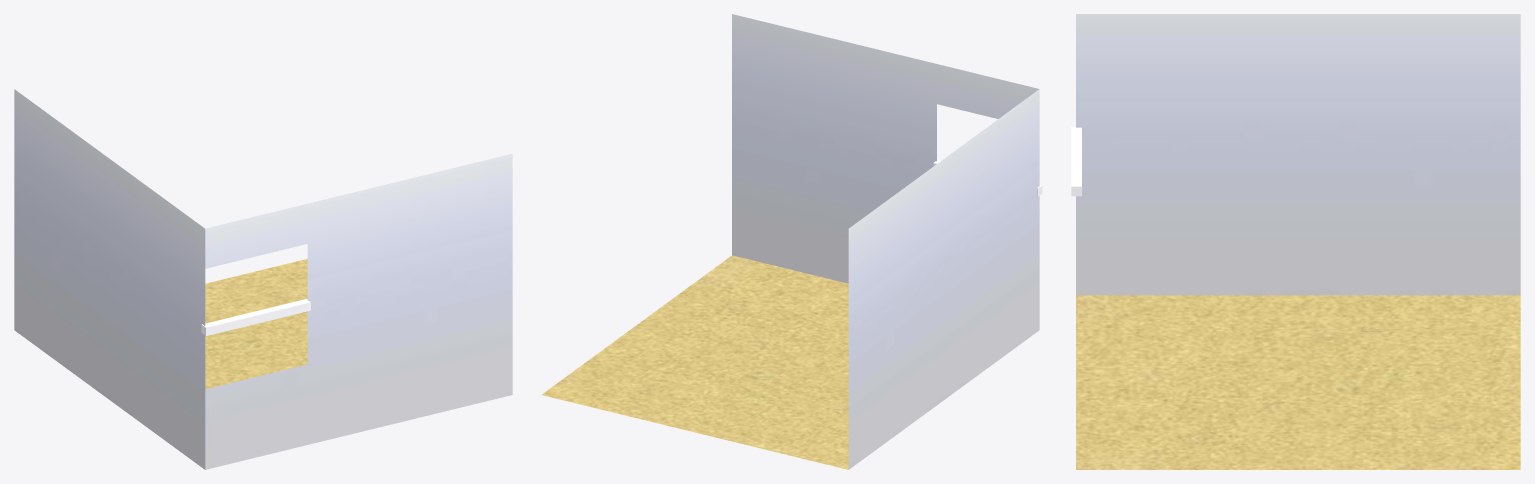
File: Bedroom-B-04.glb
The picture shows the model from 3 angles, left to right: view 1: azimuth 30°, elevation 25°; view 2: azimuth 150°, elevation 25°; view 3: azimuth 270°, elevation 25°; orthographic projection. The views are drawn at different scales.
Visible parts, largest first — view 1: ROOM; view 2: ROOM; view 3: ROOM.
Part boxes in pixels (bbox=[...]): ROOM: bbox=[14, 89, 512, 469]; ROOM: bbox=[541, 14, 1042, 469]; ROOM: bbox=[1071, 14, 1520, 469].
Bounding box in the file's own units: 3.06 × 2.29 × 3.31.
1 material, 1 textured.
